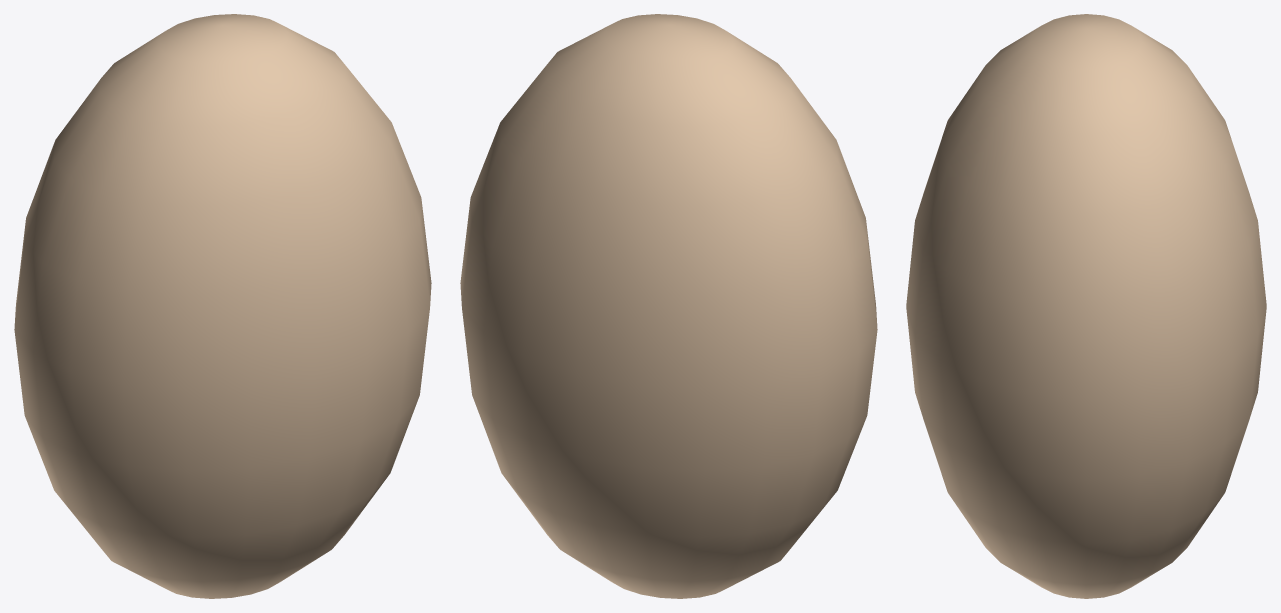
The model's file is baseline.glb.
3 renders of one model, left to right at view 1: azimuth 30°, elevation 25°; view 2: azimuth 150°, elevation 25°; view 3: azimuth 270°, elevation 25°, orthographic.
Visible parts, largest first — view 1: body; view 2: body; view 3: body.
Boxes of the visible parts, box(x1,y1,x2,y2) form: body: box(14, 14, 431, 598); body: box(460, 14, 877, 598); body: box(906, 14, 1266, 598).
Size of the model in its own units: 0.12 by 0.17 by 0.1.
